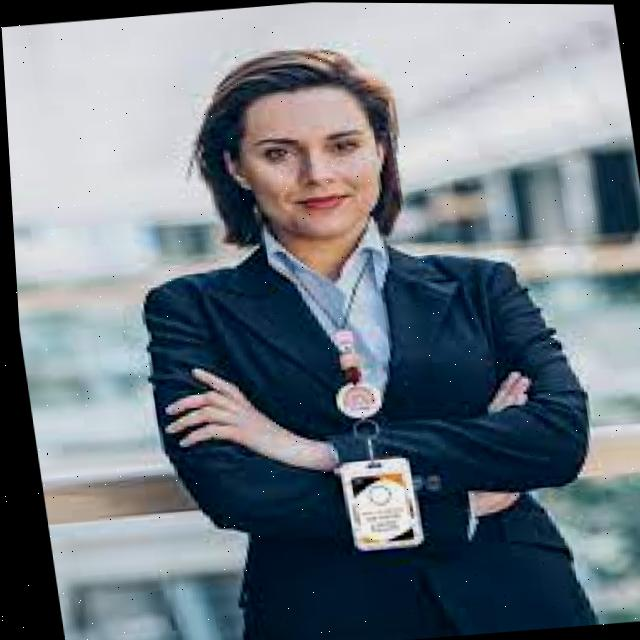id_card: (279, 273, 433, 554)
